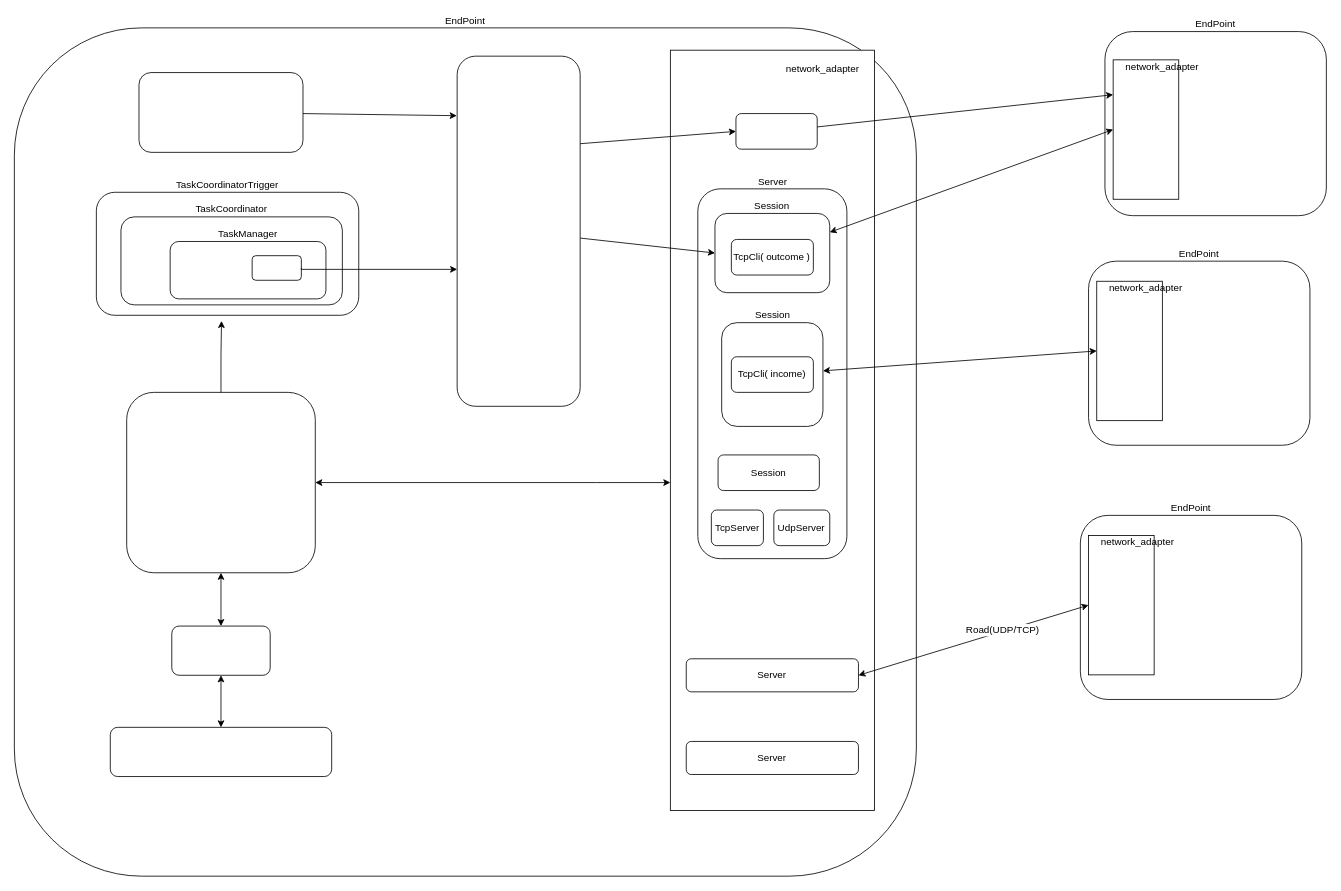
This 1341x891 diagram has some shape labels left out. The centre of each missing label's shape, as x and y in pixels:
Core( Logic ): the point at 220,482
NetworkContext 为RoadMaintainer抽象: the point at 518,230
PersistAbstracter: the point at 220,752
ResourceManager: the point at 220,650
Task: the point at 276,267
UdpCli: the point at 776,131
UdpTrigger: the point at 220,112
